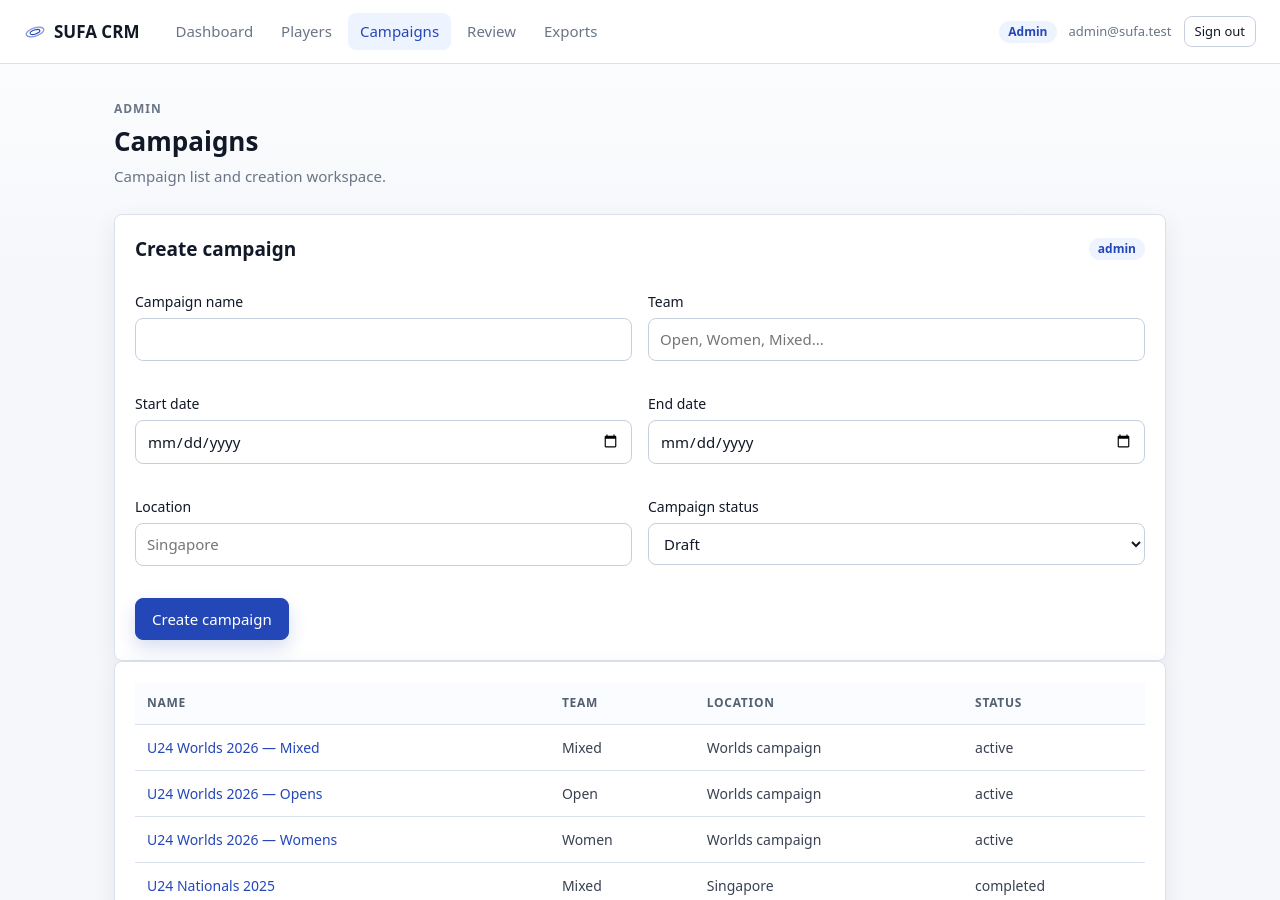
Test: App routing › lets an admin create a campaign from the campaign workspace
This screenshot has width=1280, height=900.
Expected: the heading "Campaigns" is shown, [114,123,258,159]
In the field labelled "Campaign name": (384, 339) [135,318,632,360], type "Worlds 2027"
In the field labelled "Team": (896, 339) [648,318,1145,360], type "Mixed"
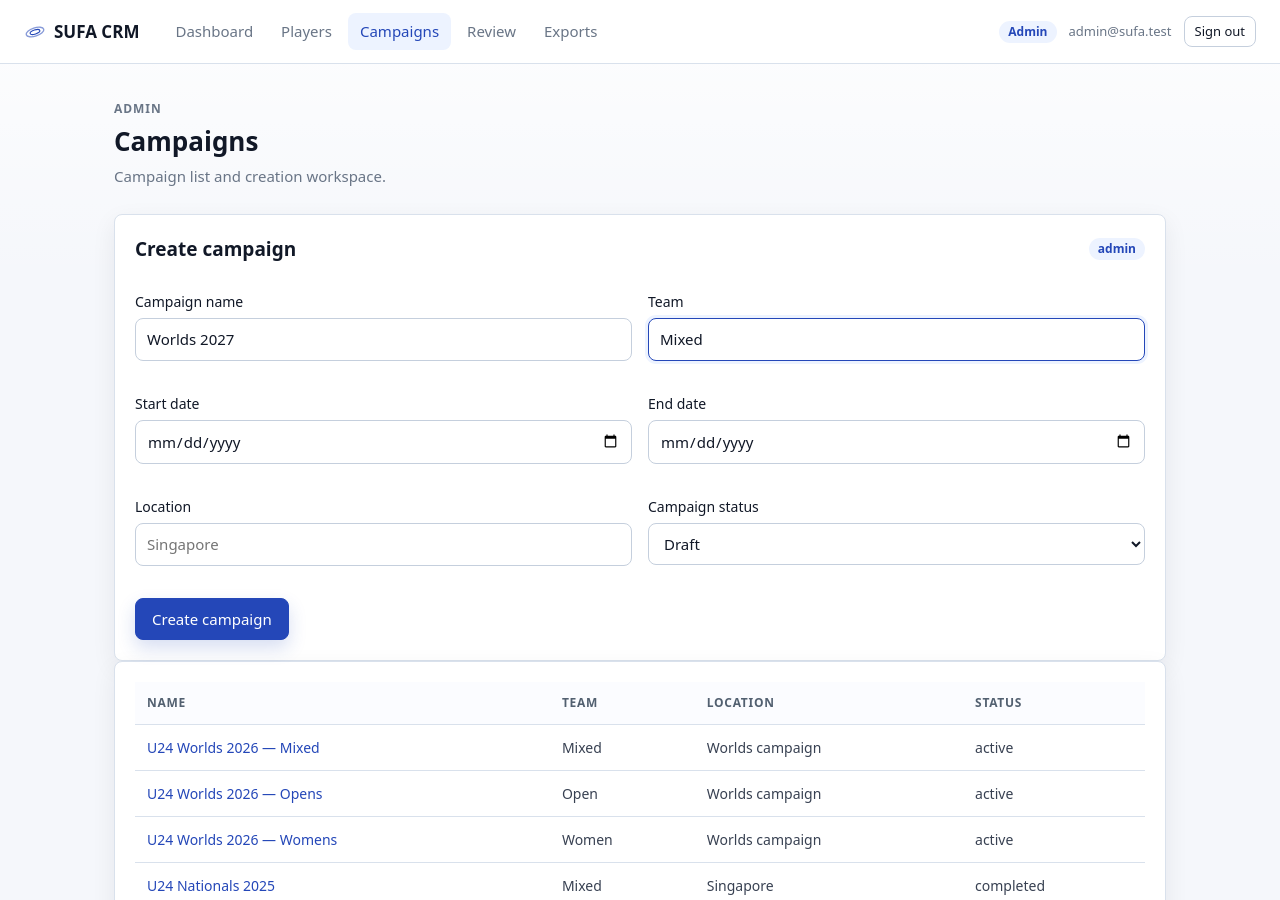
In the date field labelled "Start date": (384, 442) [135,420,632,464], type "2027-07-01"
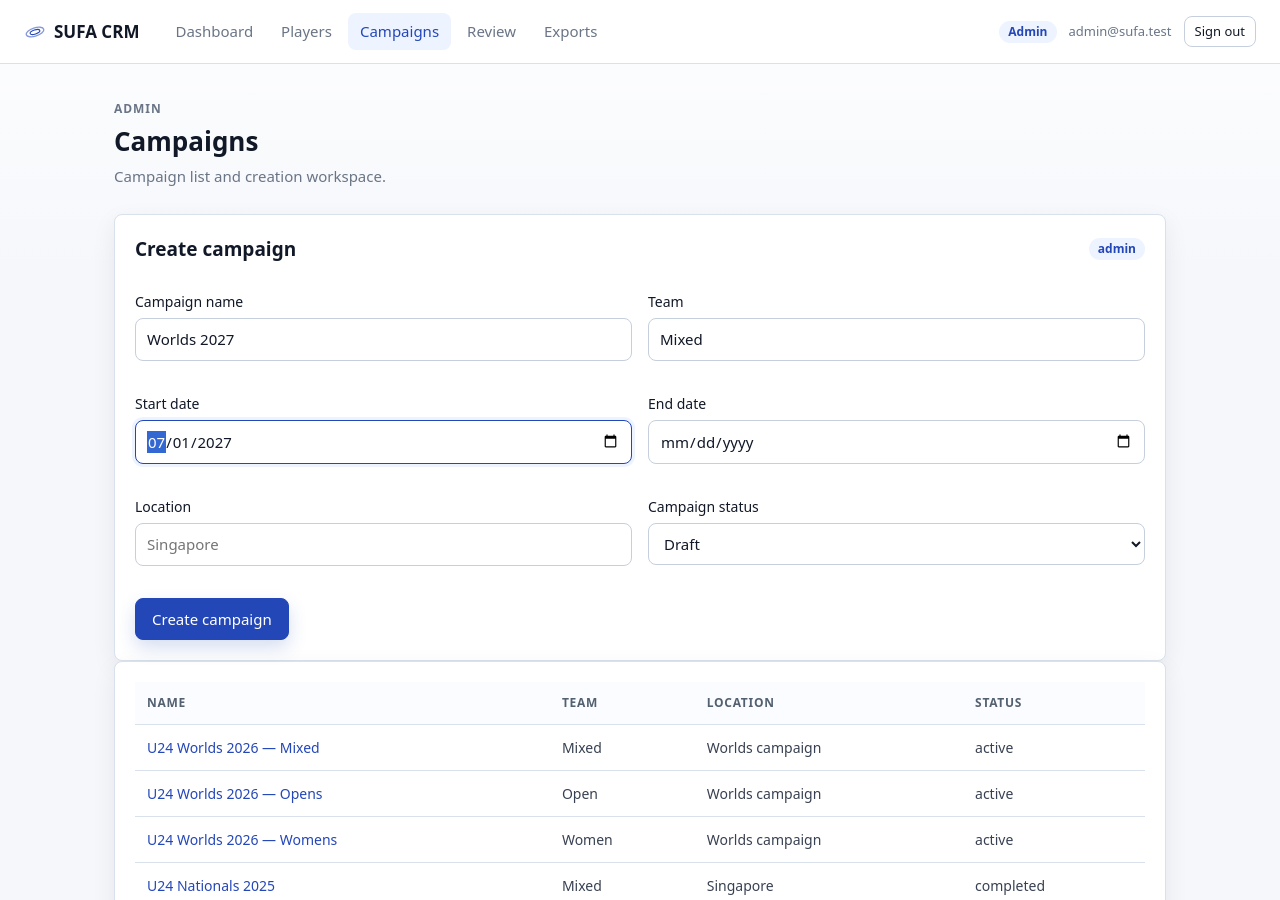
In the date field labelled "End date": (896, 442) [648,420,1145,464], type "2027-07-08"
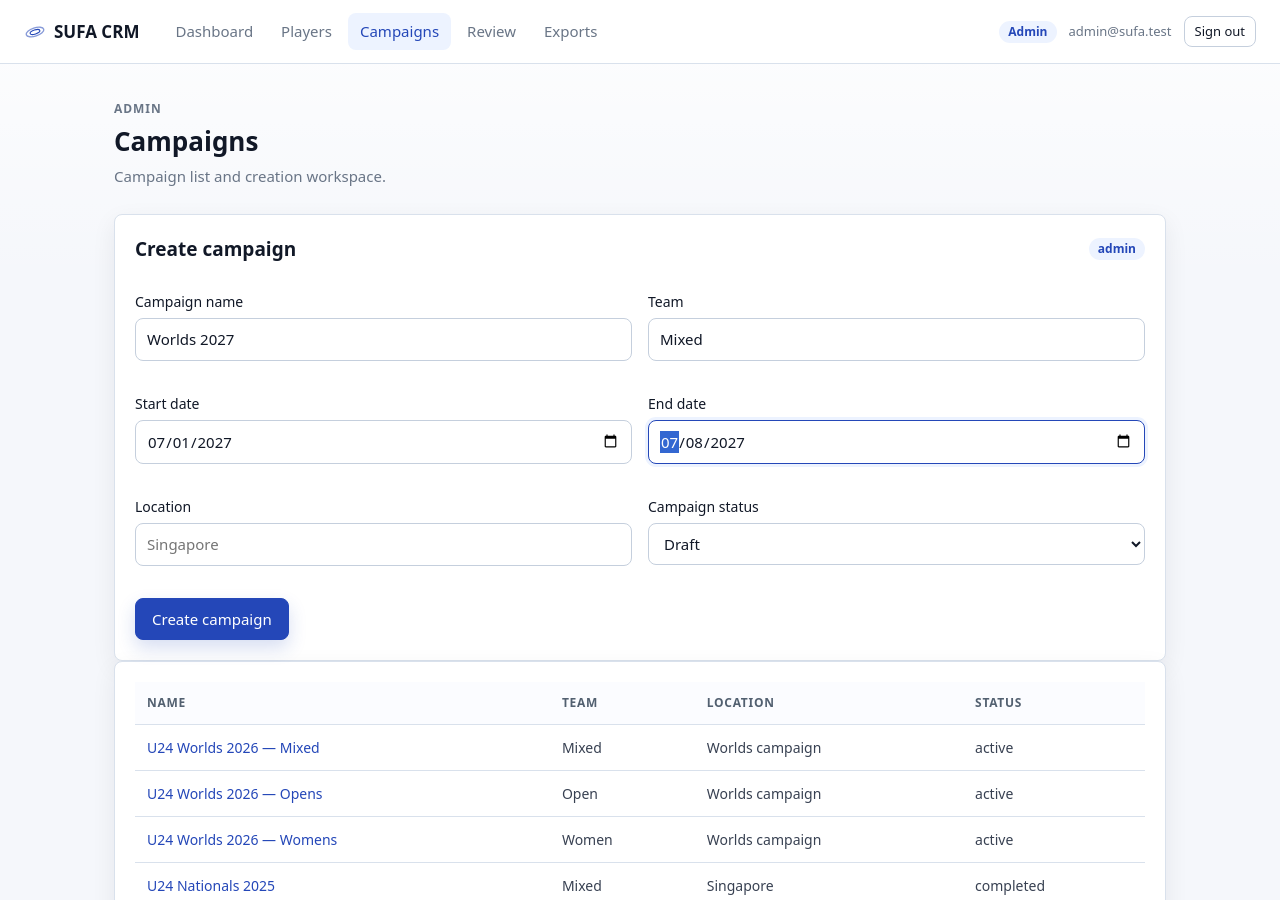
In the field labelled "Location": (384, 544) [135,523,632,566], type "Perth"
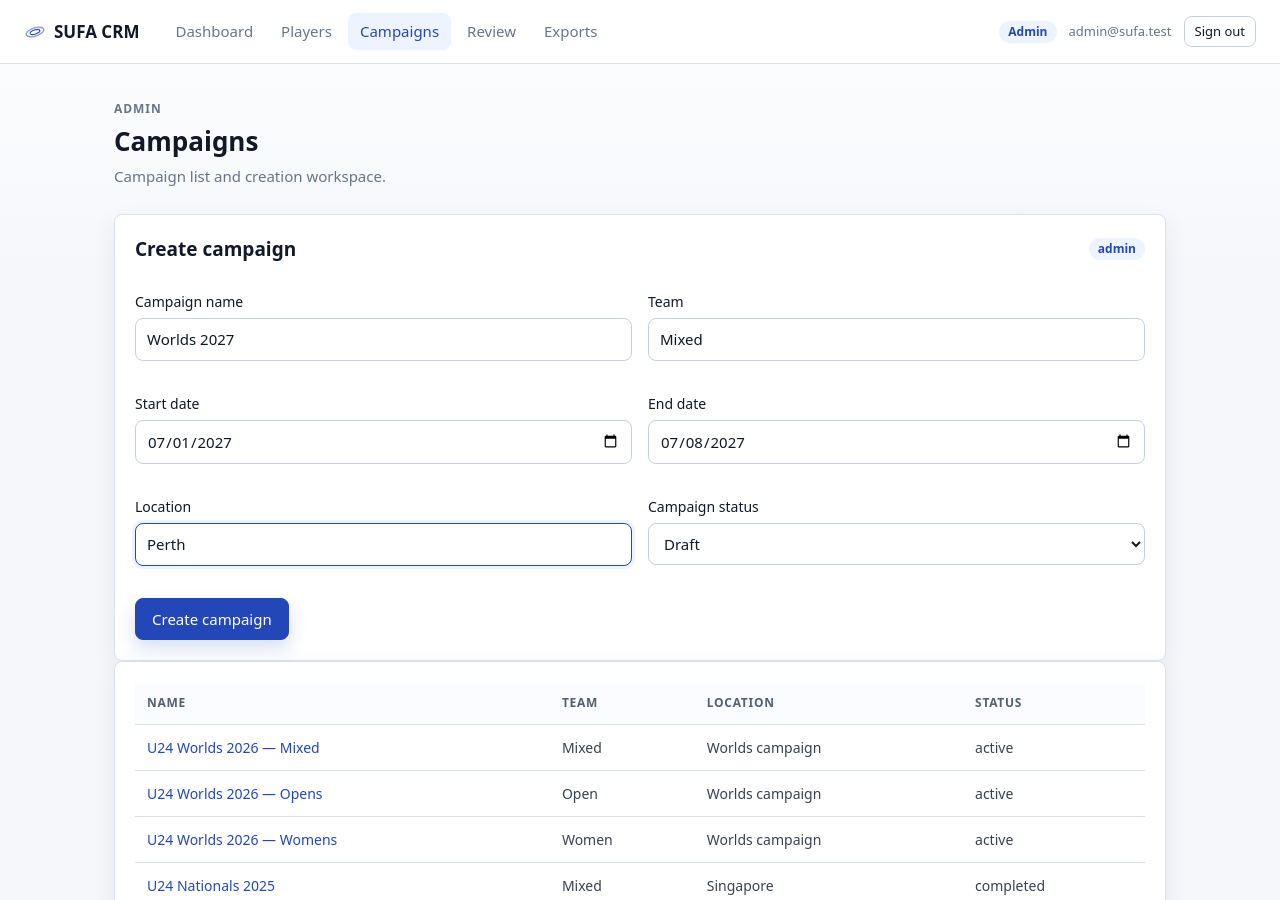
Select "Active" in the dropdown labelled "Campaign status": (896, 544) [648,523,1145,565]
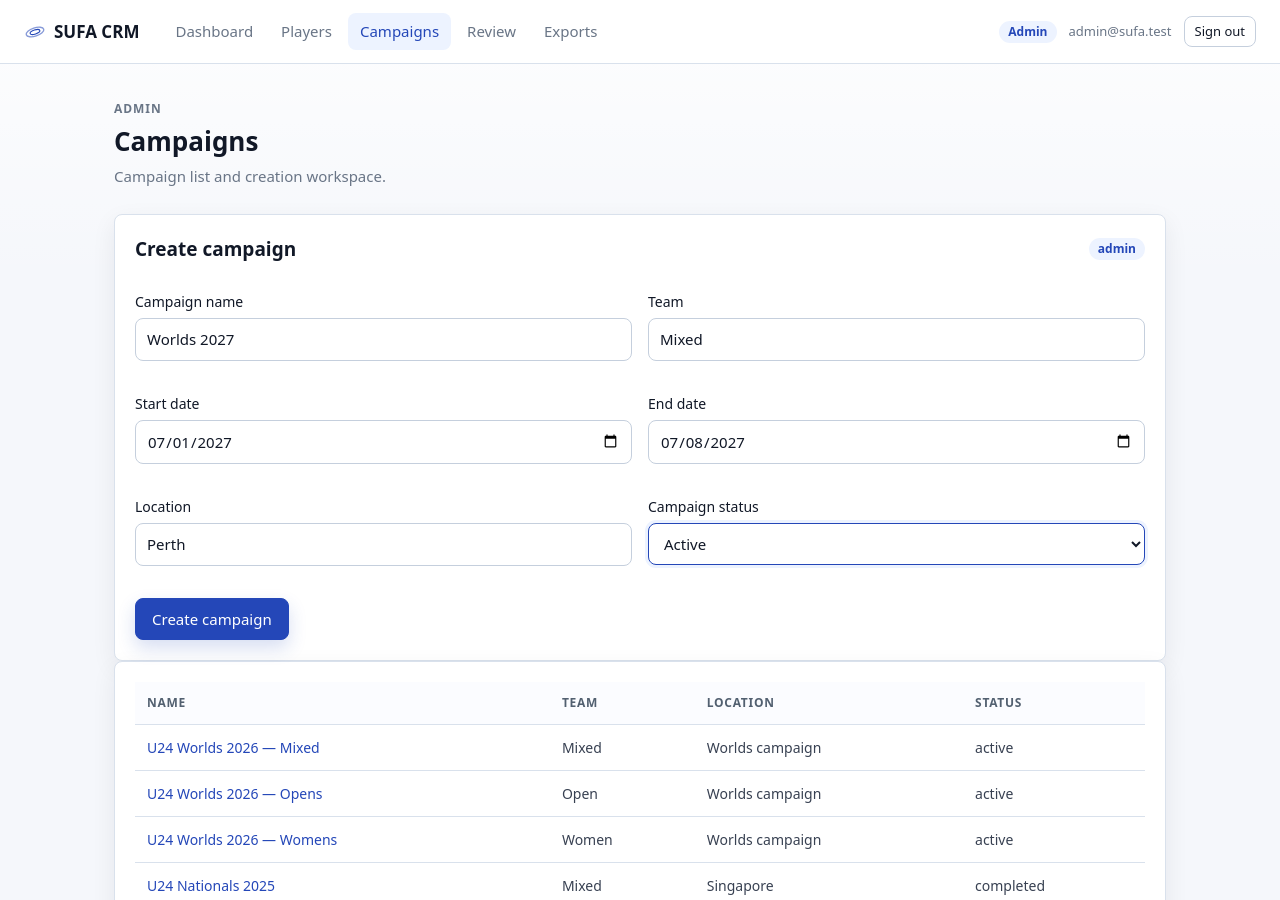
Click the button "Create campaign": (212, 619) [135,598,289,640]
(page scrolled)
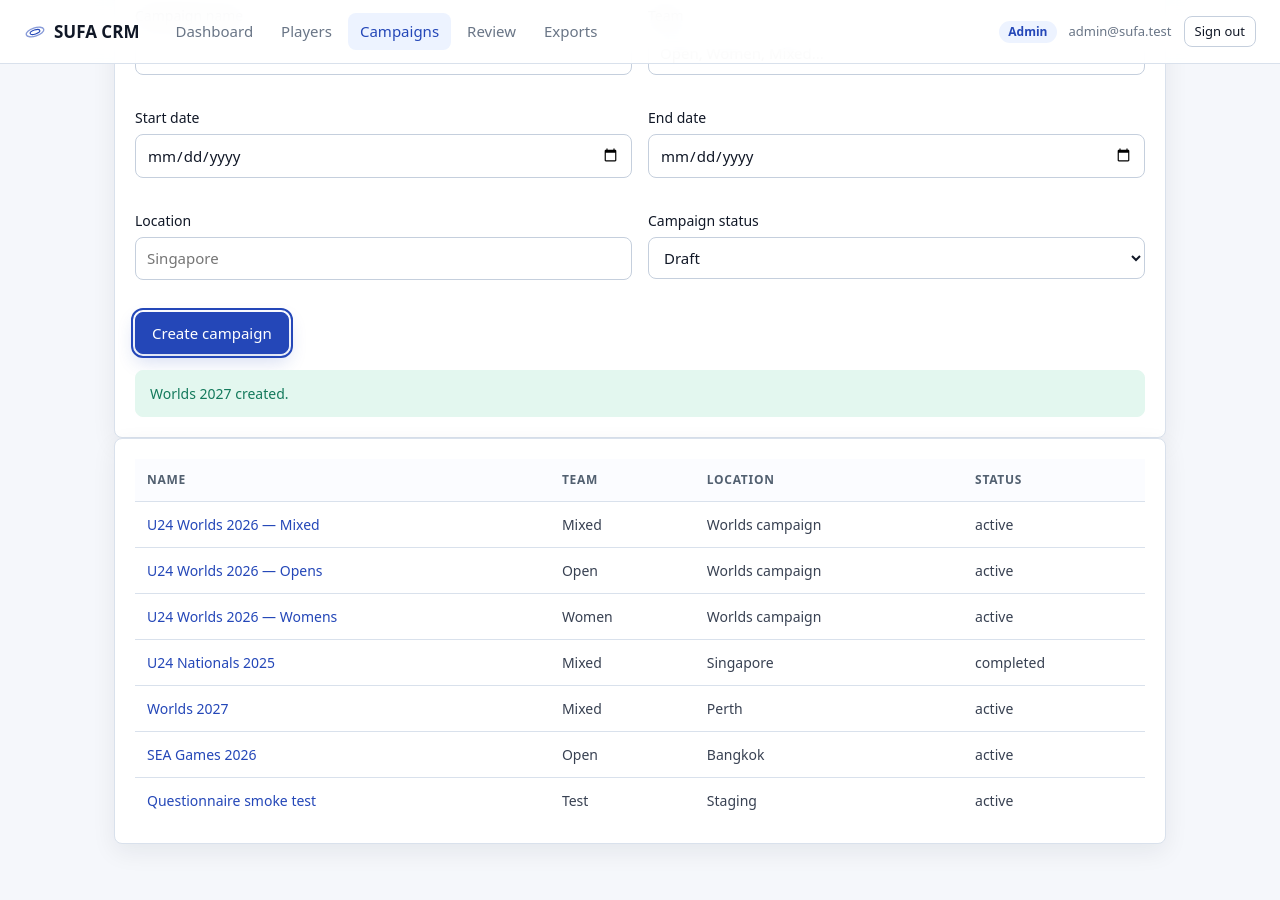
Now the text "Worlds 2027 created." is shown, box [135,370,1145,417]
Now the link "Worlds 2027" is shown, box [147,699,229,718]
